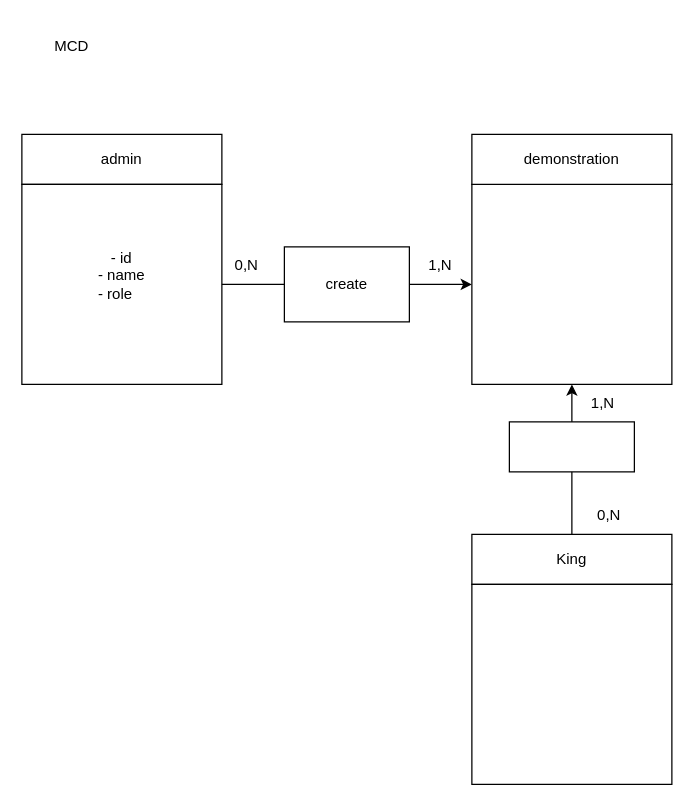
The diagram is 695 pixels wide and 806 high, and some of its shapes have lost their labels. The centre of each missing label's shape, as x and y in pixels:
"- id - img - date - description" goes at point 571,283.
"- id - name" goes at point 571,683.
"participate" goes at point 571,446.
